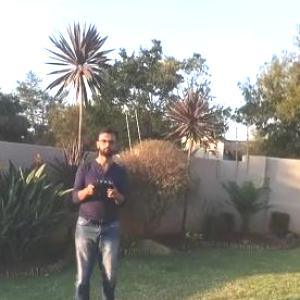follow: (66, 124, 133, 299)
